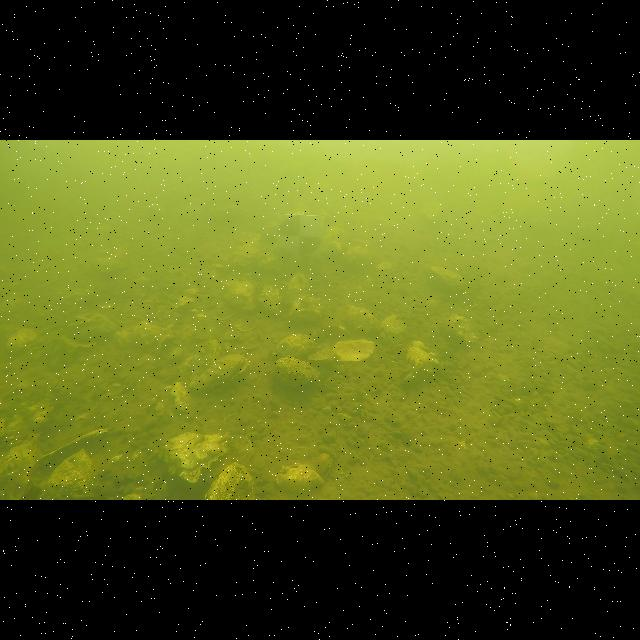Oyster-Closed: (38, 447, 102, 500), (164, 432, 229, 482), (0, 434, 41, 499), (187, 353, 247, 393), (205, 462, 255, 500), (177, 337, 222, 377), (274, 356, 319, 388), (276, 464, 324, 494), (69, 312, 116, 341), (406, 341, 441, 379), (441, 315, 479, 348), (274, 334, 318, 358), (428, 266, 464, 295), (225, 279, 255, 310), (346, 305, 379, 332), (289, 296, 322, 322), (380, 315, 406, 344), (286, 272, 310, 301), (259, 285, 281, 315)
Oyster-Open: (31, 427, 111, 471), (332, 339, 375, 361)
